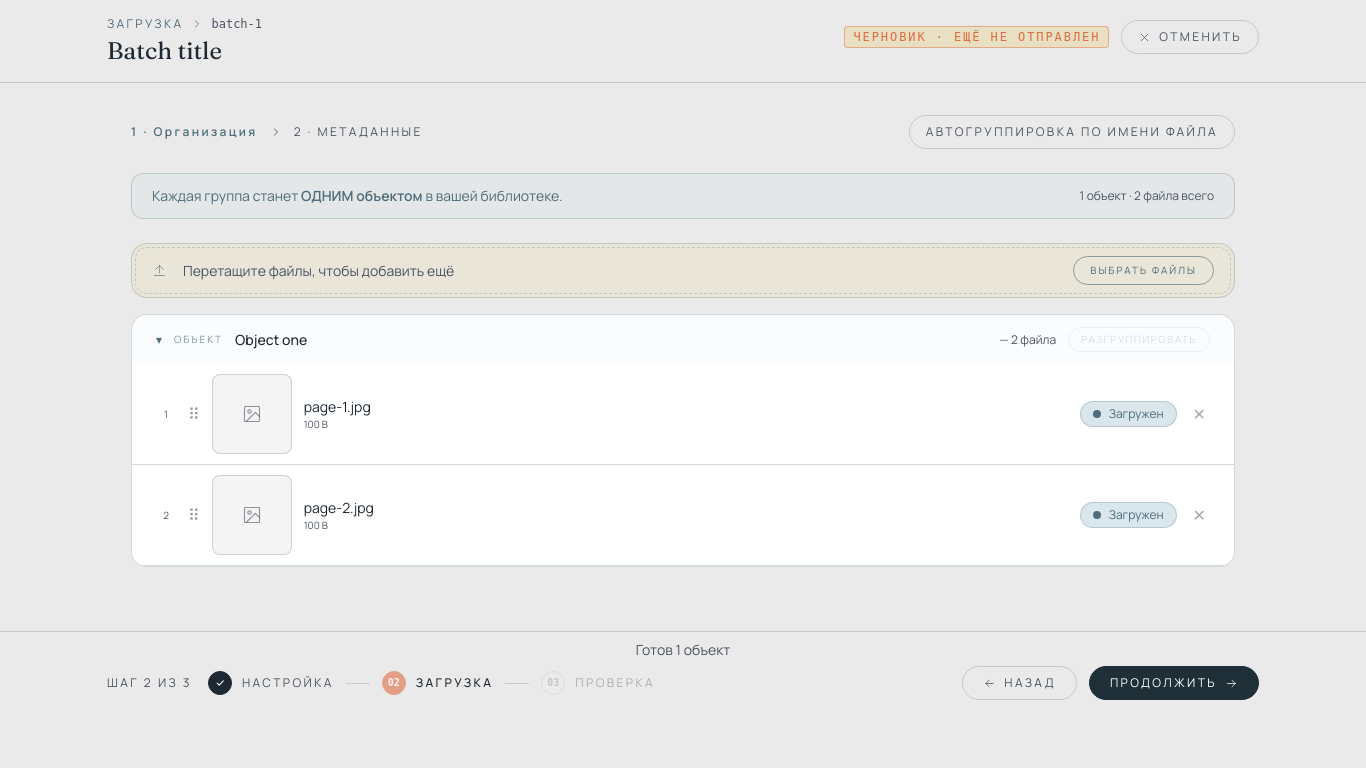
it: /ingestion/[batchId]/setup +page.svelte › localizes header, step, and footer copy in Russian
expect the text "Загрузка" next to "batch-1" is shown: met, box top-left (107, 15), bottom-right (184, 32)
expect the text "Черновик · ещё не отправлен" is shown: met, box top-left (844, 26), bottom-right (1109, 48)
Click the button "Продолжить".
click(1174, 683)  # box top-left (1089, 666), bottom-right (1259, 700)
(page scrolled)
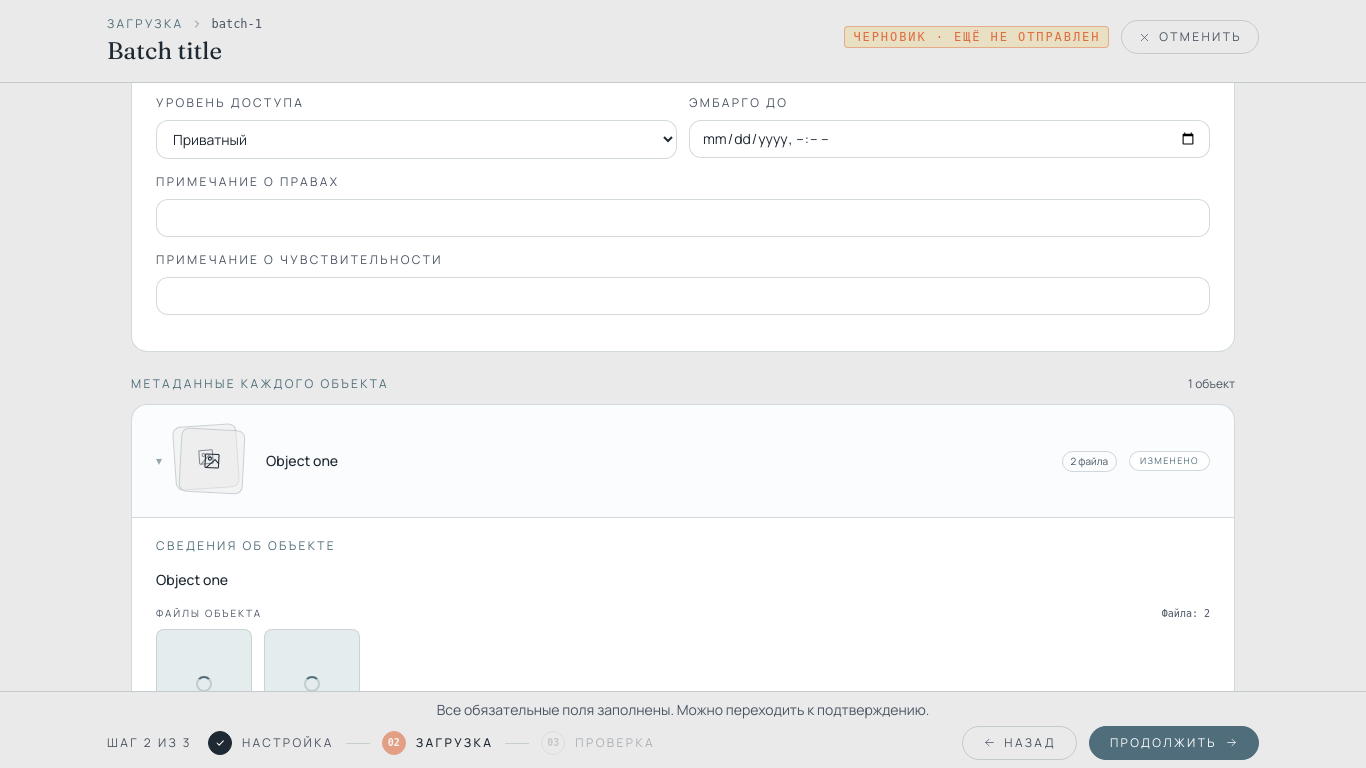
expect the text "Метаданные каждого объекта" is shown: met, box top-left (131, 376), bottom-right (389, 392)
